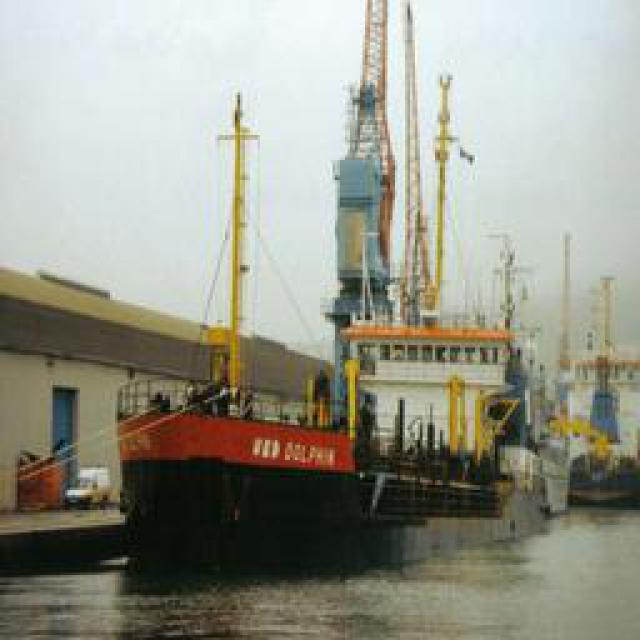Ship: (123, 56, 563, 587)
